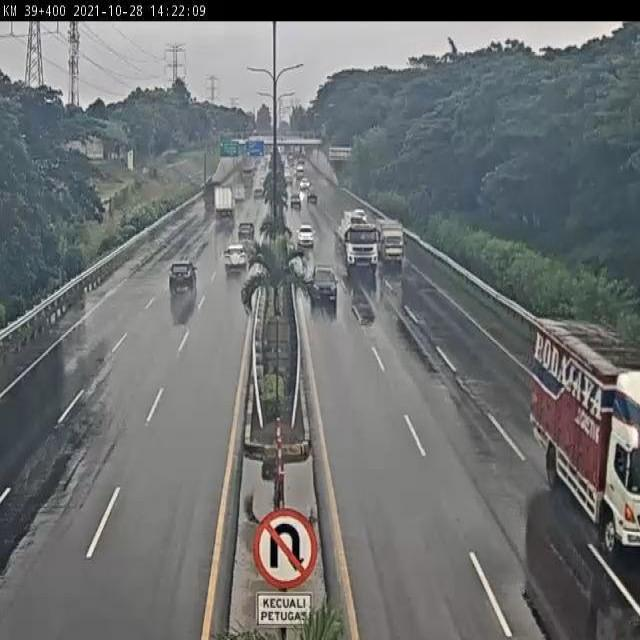car: (310, 265, 339, 308), (168, 262, 199, 294), (224, 244, 250, 272), (295, 224, 315, 247), (236, 220, 254, 240)
truck-l-: (530, 315, 640, 540), (335, 214, 381, 274)
truck-m-: (214, 185, 235, 219)
truck-s-: (376, 218, 407, 266)
